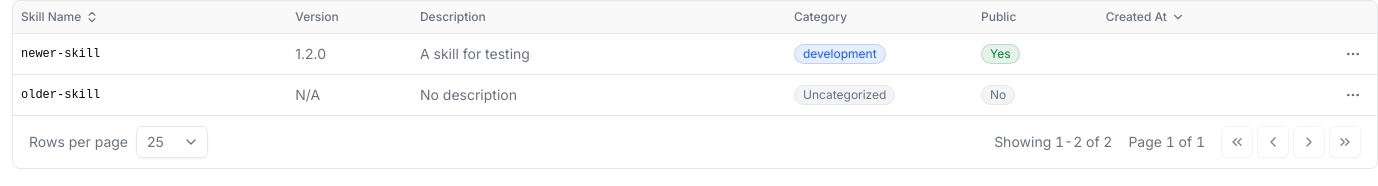
Test: PluginTable › should hide the delete action for non-admins but keep copy available
Click the button with test id "plugin-actions-newer-skill".
click(1353, 54)  # box [1337, 38, 1369, 70]
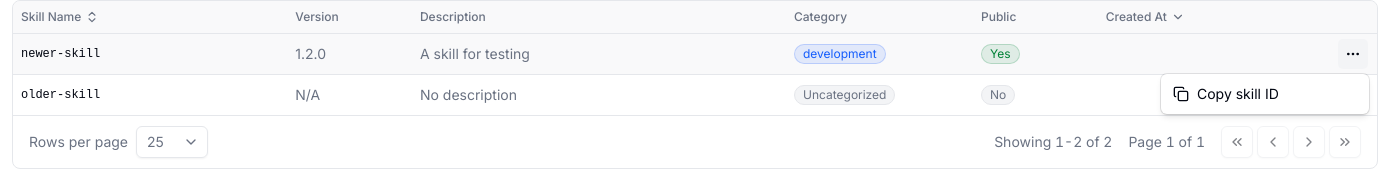
Expected: the menu item with test id "plugin-action-copy" is shown, [1173, 85, 1279, 102]
